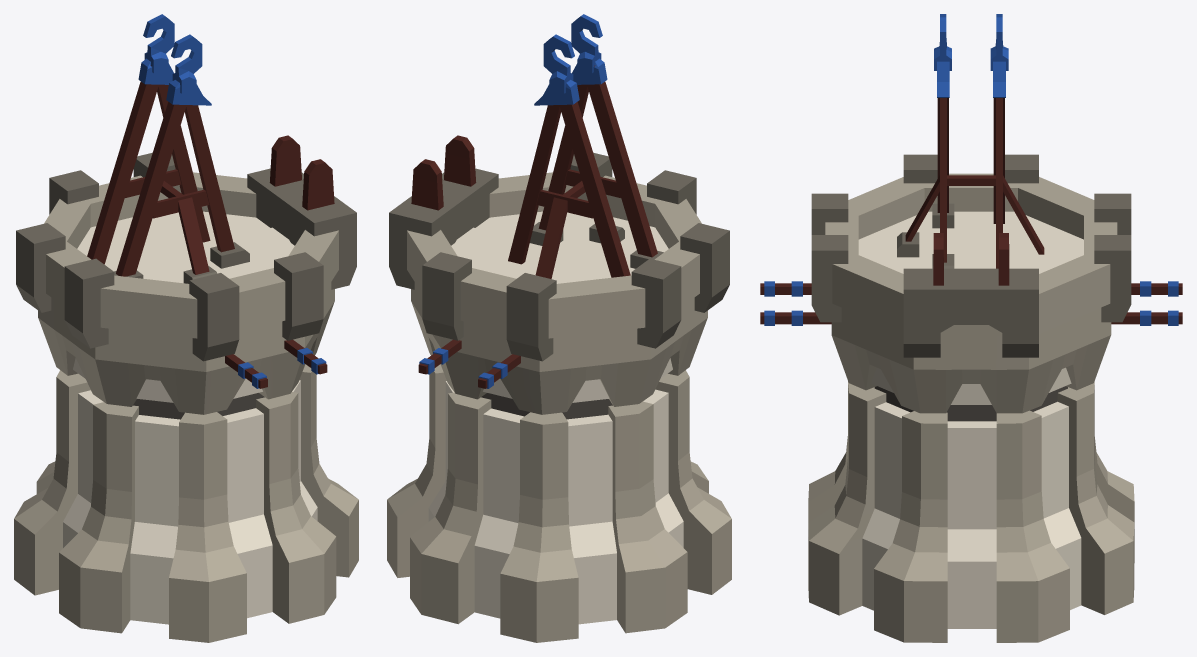
File: riggedTreb.fbx
3 renders of one model, left to right at view 1: azimuth 30°, elevation 25°; view 2: azimuth 150°, elevation 25°; view 3: azimuth 270°, elevation 25°, orthographic.
Visible parts, largest first — view 1: rotating top, tower base; view 2: rotating top, tower base; view 3: rotating top, tower base.
Part boxes in pixels (x1=…): rotating top: x1=16, y1=14, x2=356, y2=419; tower base: x1=14, y1=364, x2=358, y2=642; rotating top: x1=389, y1=14, x2=729, y2=419; tower base: x1=387, y1=364, x2=731, y2=642; rotating top: x1=760, y1=14, x2=1182, y2=421; tower base: x1=808, y1=381, x2=1134, y2=642.
Size of what is drawn, in the model's own units: 825 by 1547 by 1067.
